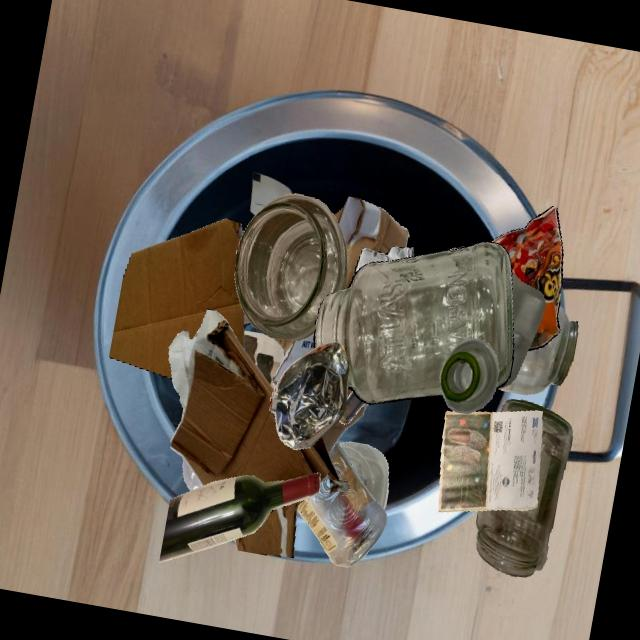cardboard: (168, 309, 348, 492), (272, 253, 385, 451), (108, 218, 244, 379), (333, 196, 408, 288)
glass: (313, 241, 513, 404), (475, 399, 572, 577), (234, 193, 347, 340), (158, 472, 320, 562), (496, 305, 577, 394), (439, 338, 499, 413), (338, 390, 366, 424)
metal: (269, 341, 348, 449)
paper: (438, 410, 542, 512), (243, 330, 285, 390), (352, 246, 413, 279), (249, 171, 292, 216)
plastic: (296, 441, 386, 567), (498, 269, 545, 388), (338, 441, 388, 510), (182, 457, 202, 491)
trash: (491, 206, 562, 350)
